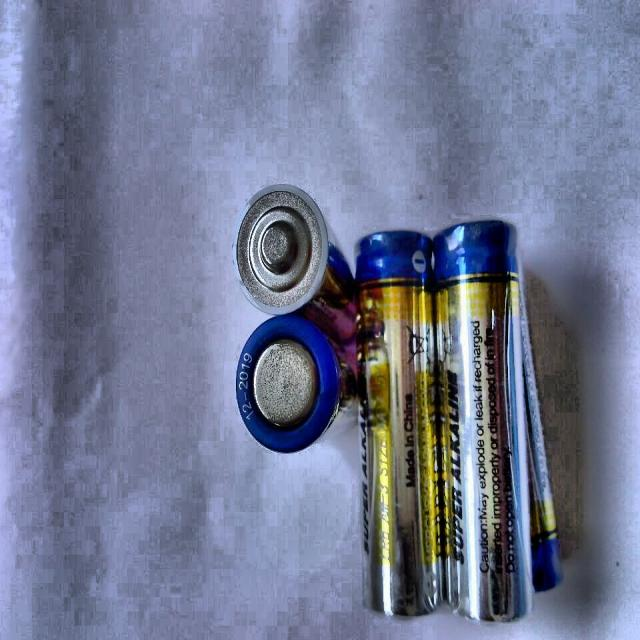Non-Valuable Waste - Batteries: (434, 222, 532, 622), (355, 230, 441, 616), (235, 187, 355, 342), (236, 313, 342, 452)
